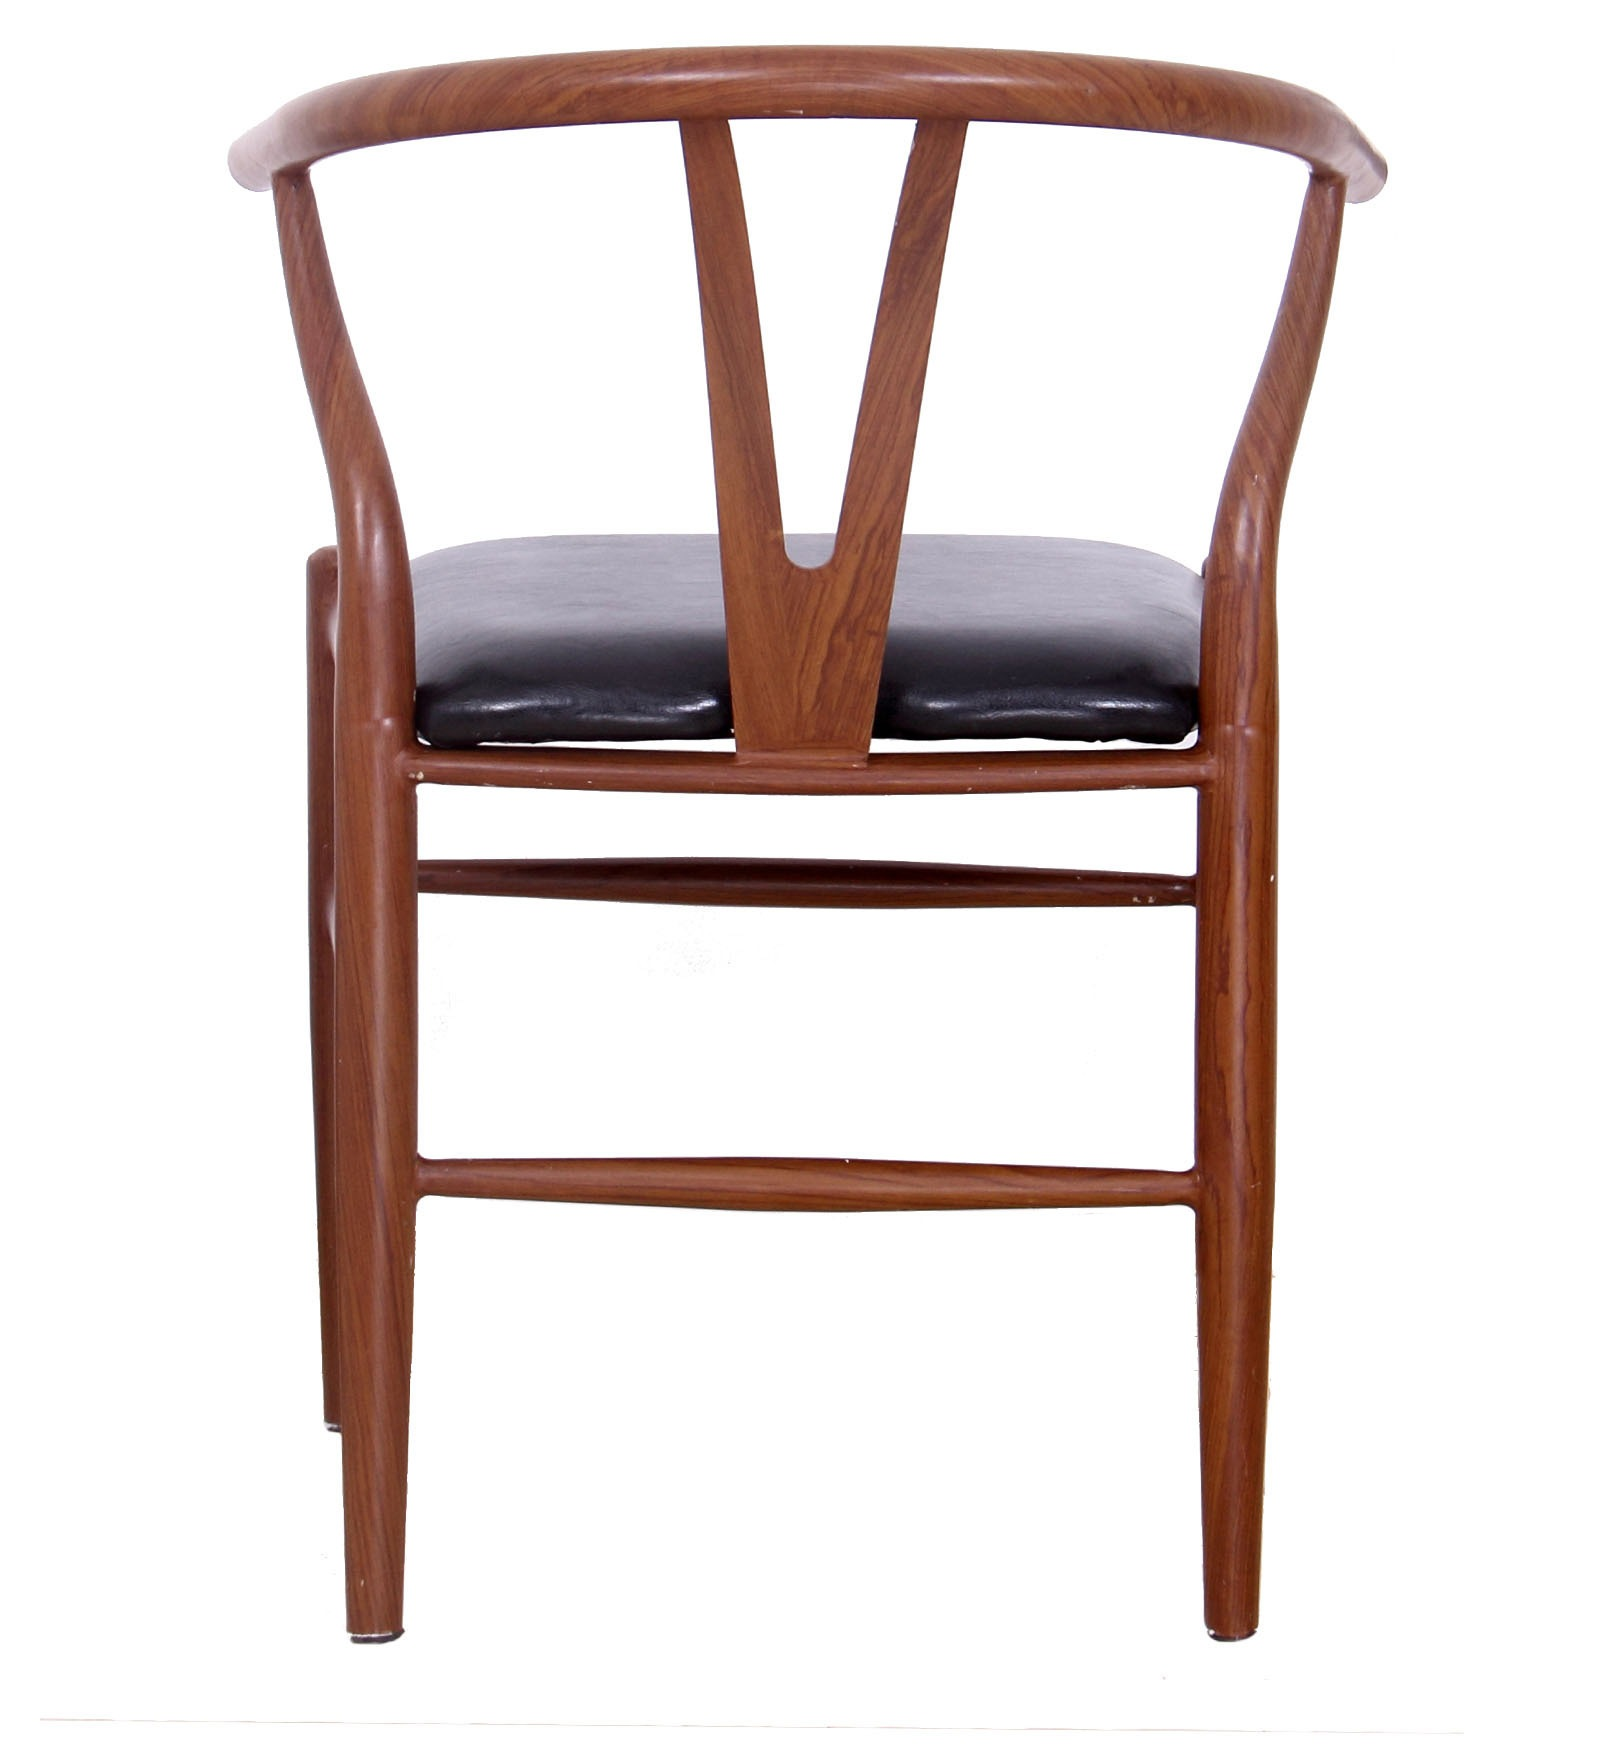Palo Metal Chair (Set of 2) in Walnut Finish by Bohemiana: (175, 21, 1411, 1674)
